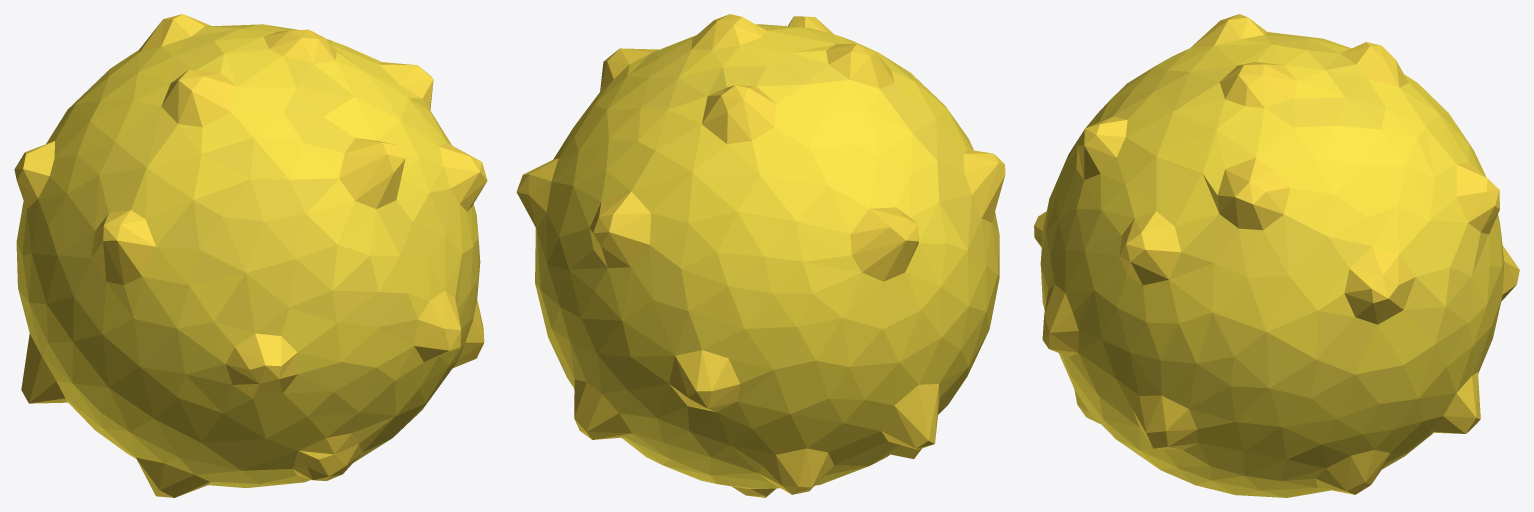
Rendered from Sun.obj.
3 renders of one model, left to right at view 1: azimuth 30°, elevation 25°; view 2: azimuth 150°, elevation 25°; view 3: azimuth 270°, elevation 25°, orthographic.
Parts seen in each view (by area): view 1: Sun; view 2: Sun; view 3: Sun.
Boxes of the visible parts, x1,y1,x2,y2 form: Sun: [14, 14, 487, 497]; Sun: [516, 14, 1005, 497]; Sun: [1034, 14, 1519, 497].
Size of the model in its own units: 34.12 by 36.5 by 35.74.
Materials: 1 (1 with a texture image).
